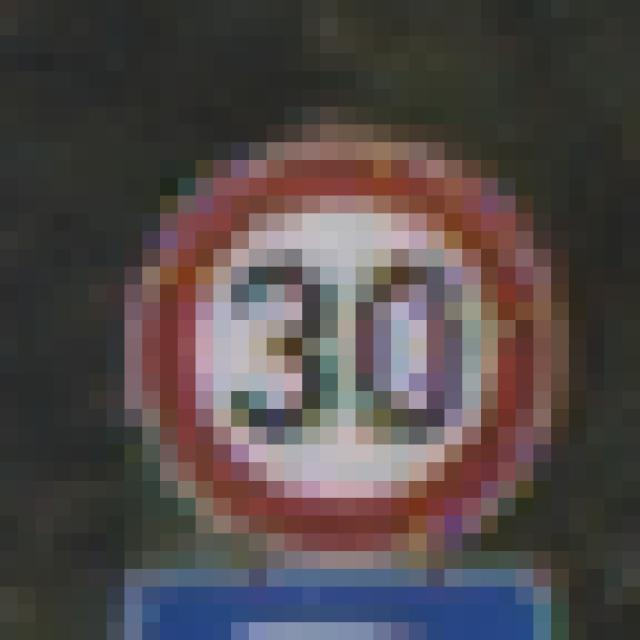Speed Limit -30-: (80, 98, 524, 524)
